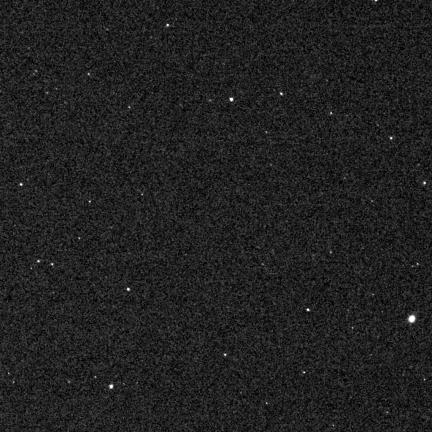blob: (408, 315, 415, 323), (423, 181, 427, 186), (224, 353, 228, 357), (307, 308, 311, 312), (280, 92, 284, 96), (109, 384, 113, 388), (390, 137, 393, 141), (330, 112, 333, 116), (51, 263, 54, 267), (20, 183, 23, 187), (230, 98, 233, 102), (38, 260, 41, 263), (128, 106, 131, 109), (127, 288, 130, 291), (167, 24, 170, 27), (89, 201, 92, 203)
